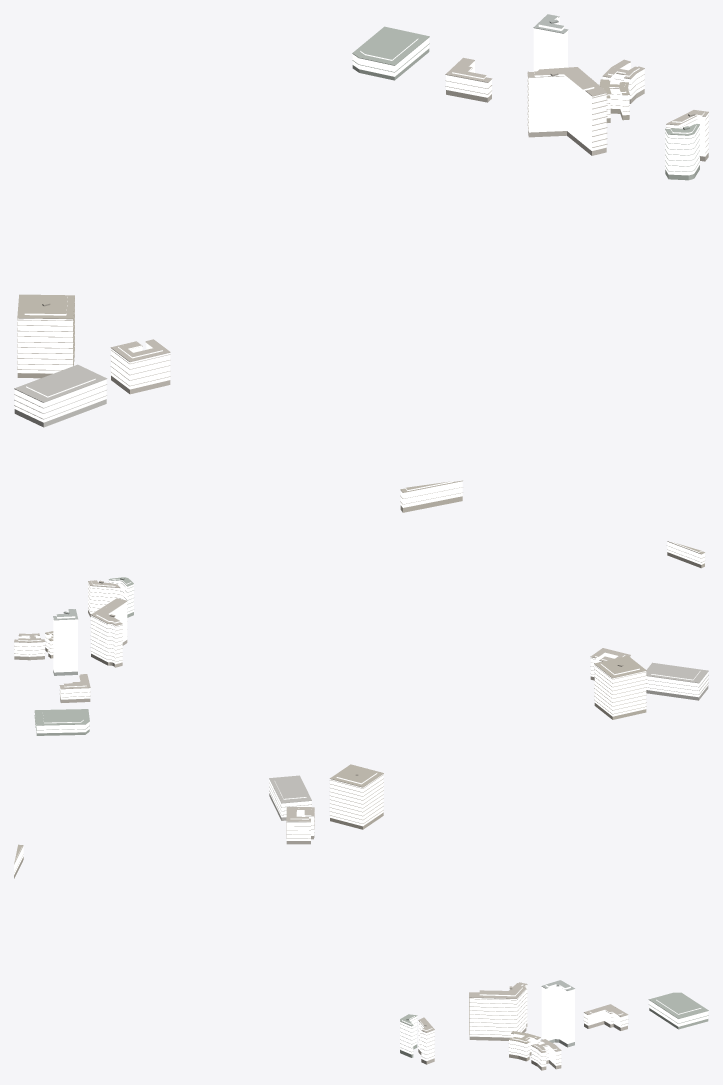
File: buildings--3_2-fine.glb
3 views of the same model, one above another, from view 1: azimuth 30°, elevation 25°; view 2: azimuth 150°, elevation 25°; view 3: azimuth 270°, elevation 25° (orthographic). The views are drawn at different scales.
Parts seen in each view (by area): view 1: block_-3_2_residential, block_-3_2_roof, block_-3_2_darkglass, block_-3_2_concrete, block_-3_2_office; view 2: block_-3_2_residential, block_-3_2_roof, block_-3_2_darkglass, block_-3_2_office, block_-3_2_concrete; view 3: block_-3_2_residential, block_-3_2_roof, block_-3_2_office, block_-3_2_darkglass, block_-3_2_concrete.
Part boxes in pixels (x1=…): block_-3_2_residential: x1=14, y1=38, x2=708, y2=507; block_-3_2_roof: x1=14, y1=14, x2=708, y2=507; block_-3_2_darkglass: x1=14, y1=49, x2=708, y2=512; block_-3_2_concrete: x1=14, y1=36, x2=708, y2=504; block_-3_2_office: x1=533, y1=16, x2=567, y2=71; block_-3_2_residential: x1=14, y1=541, x2=708, y2=733; block_-3_2_roof: x1=14, y1=541, x2=708, y2=733; block_-3_2_darkglass: x1=14, y1=552, x2=708, y2=735; block_-3_2_office: x1=53, y1=610, x2=77, y2=672; block_-3_2_concrete: x1=14, y1=541, x2=708, y2=730; block_-3_2_residential: x1=14, y1=773, x2=708, y2=1066; block_-3_2_roof: x1=14, y1=764, x2=708, y2=1066; block_-3_2_office: x1=541, y1=984, x2=574, y2=1043; block_-3_2_darkglass: x1=14, y1=793, x2=708, y2=1070; block_-3_2_concrete: x1=14, y1=773, x2=708, y2=1064.
Size of the model in its own units: 608 by 60.46 by 644.
